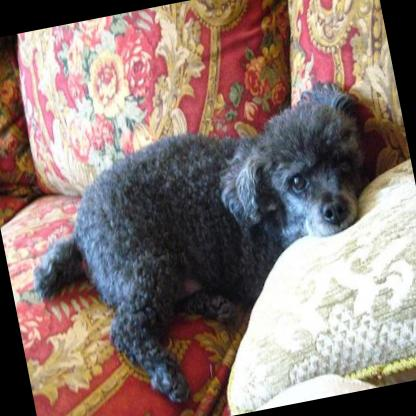toy_poodle: (5, 72, 409, 416)
